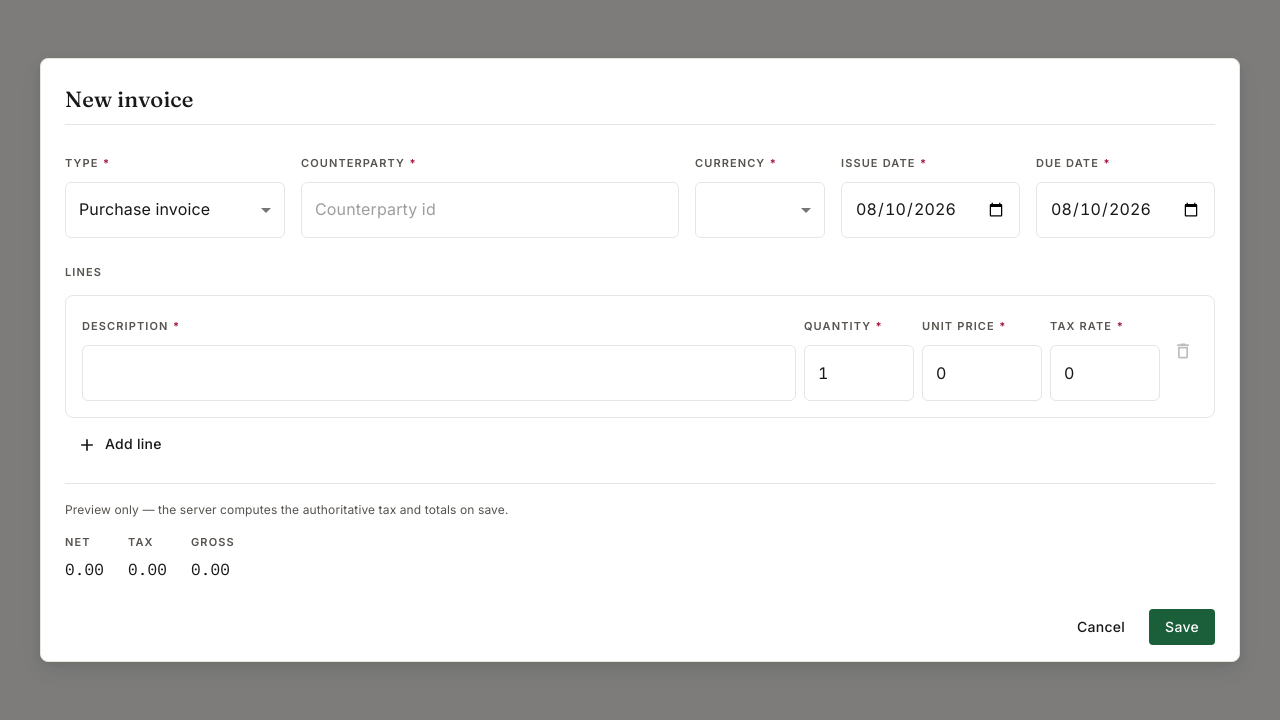
it: InvoiceFormDialog (SDD-UI-FIN-001 §2.4, §2.5) › InvoiceForm_TotalsPreview_MatchesLineSums
This screenshot has width=1280, height=720.
Expected: the text "Preview only — the server computes the authoritative tax" is shown, [65,502,508,517]
Clear the number field labelled "Quantity*" at (859, 373), box [804,345,914,401]
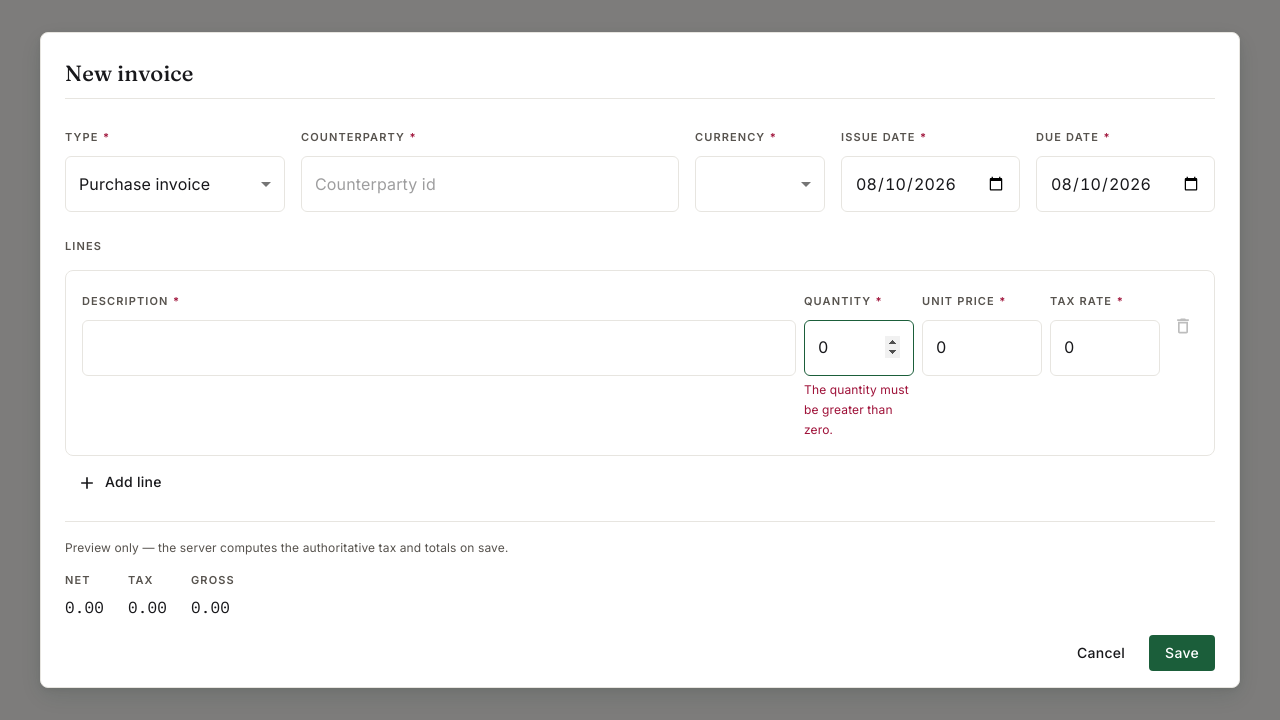
Type "5" into the number field labelled "Quantity*" at (859, 348), box [804,320,914,376]
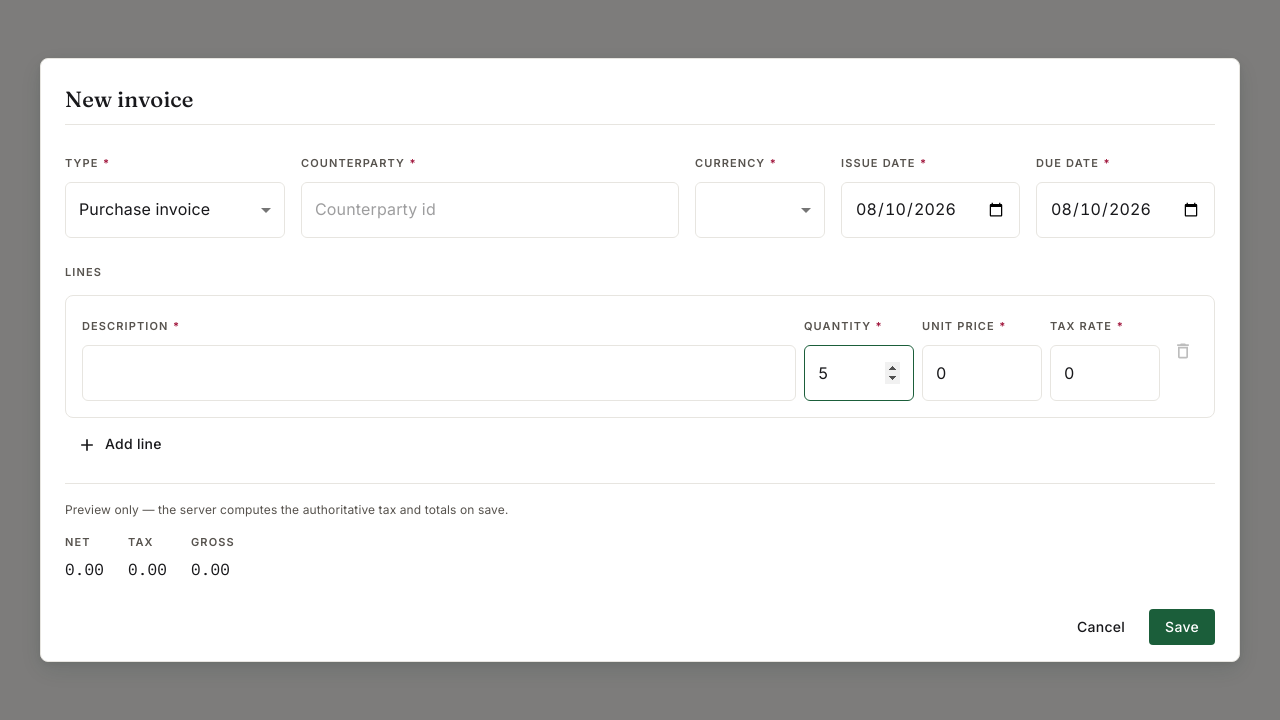
Replace the text in the number field labelled "Unit price*" with "20" at (982, 373), box [922,345,1042,401]
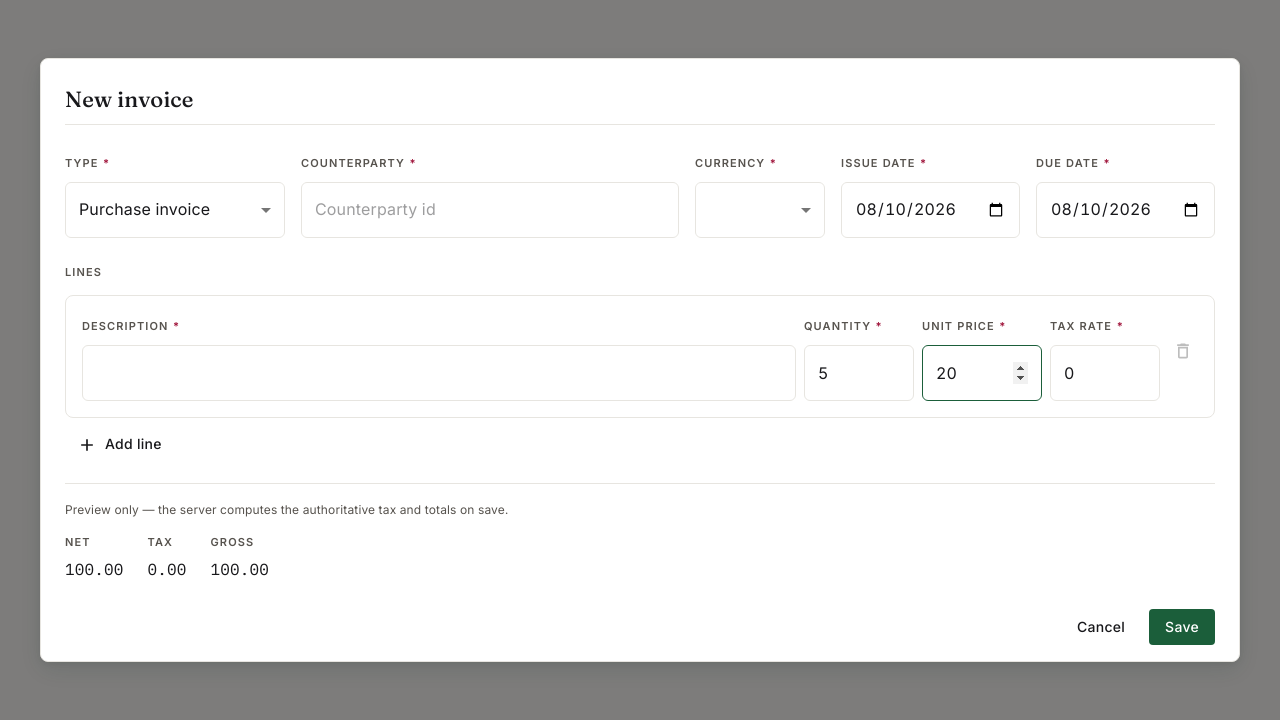
Replace the text in the number field labelled "Tax rate*" with "0.2" at (1105, 373), box [1050,345,1160,401]
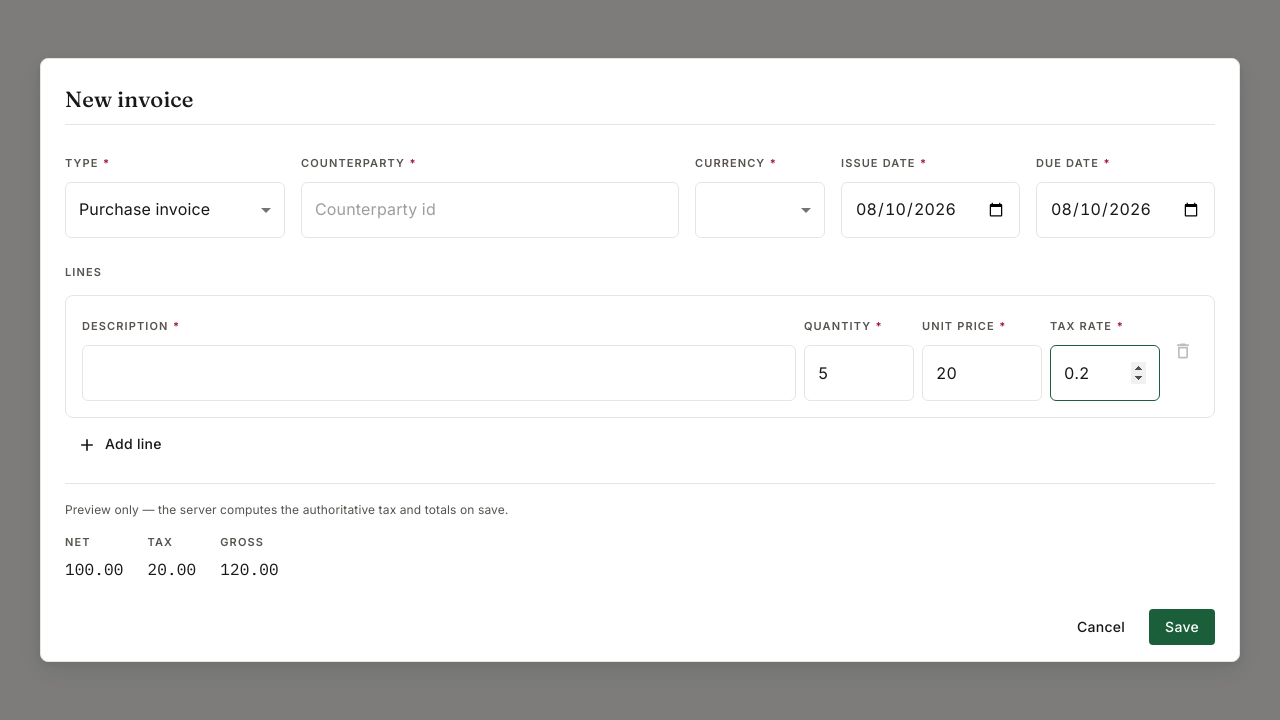
Result: the text "100.00" is shown at [65,557,124,581]
Result: the text "120.00" is shown at [220,557,279,581]
